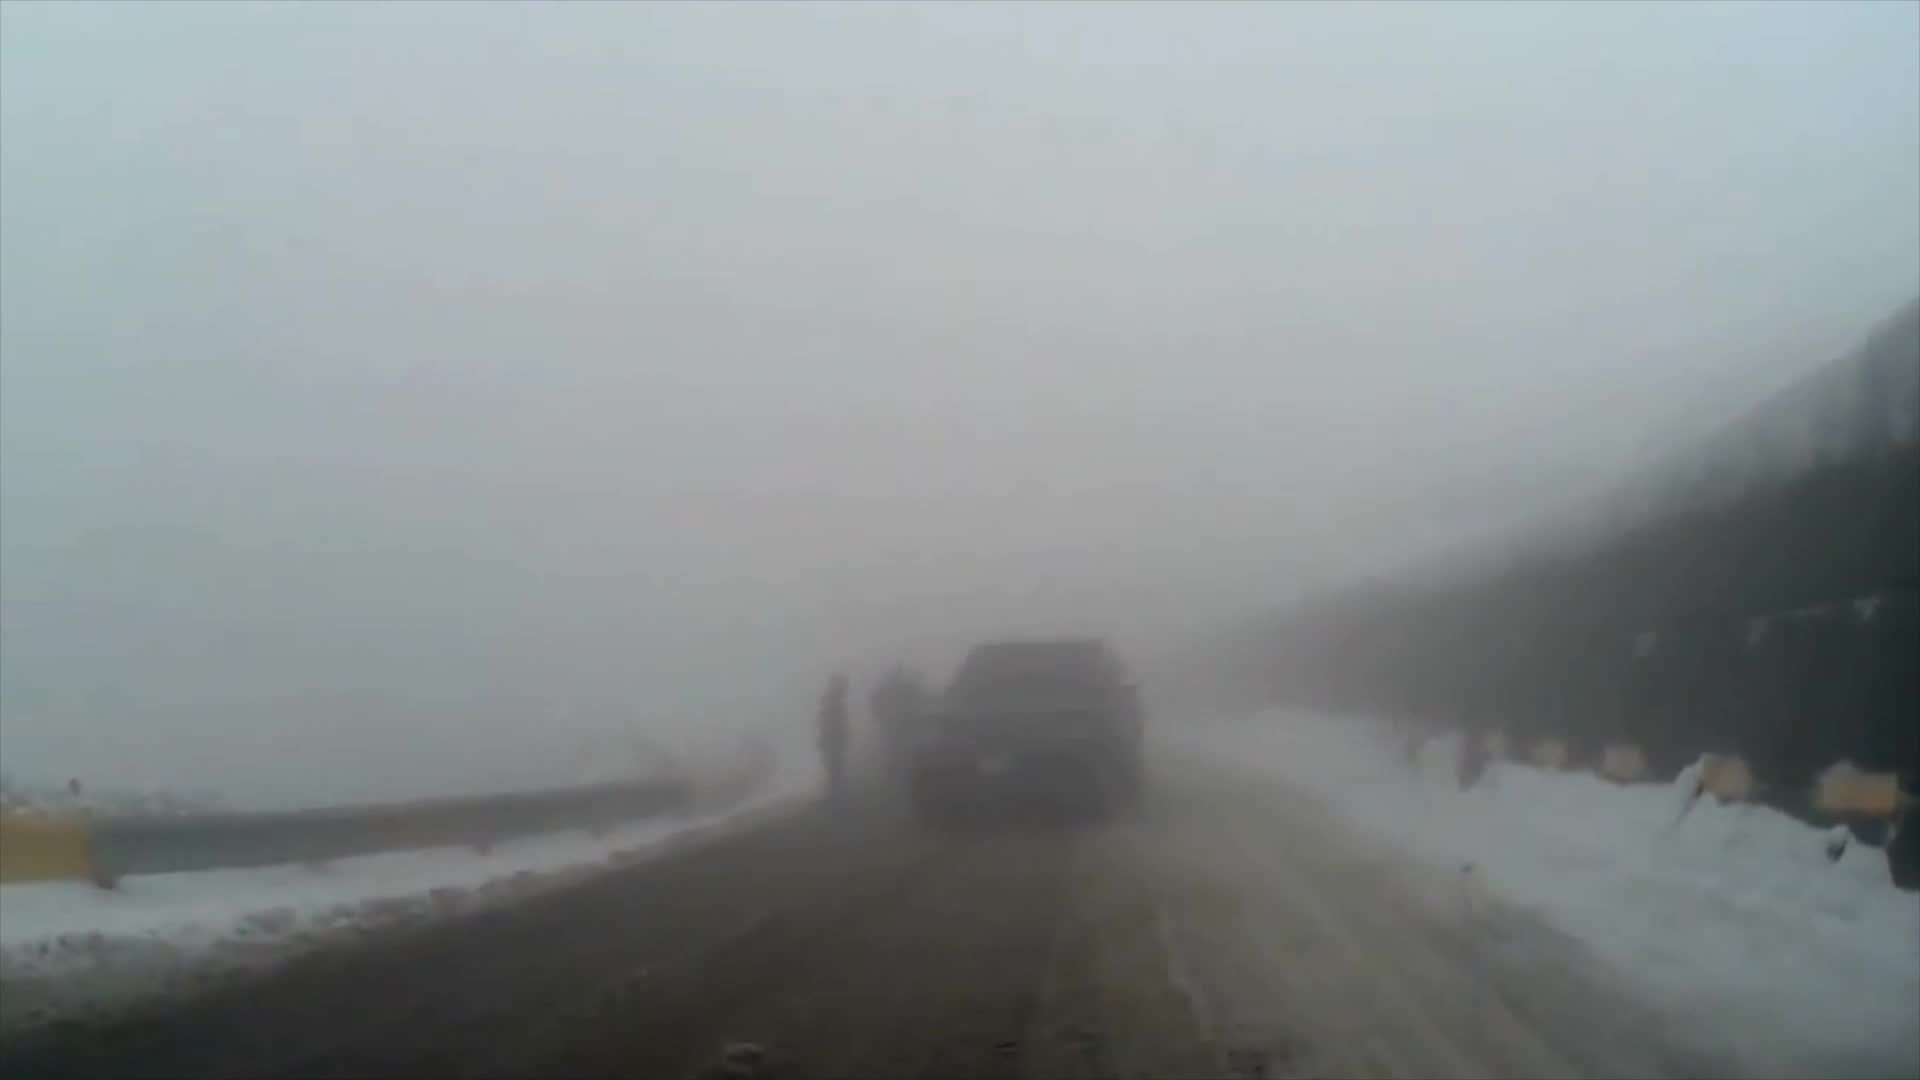pedestrian: (871, 661, 927, 786), (811, 663, 857, 805)
vehicle: (910, 632, 1148, 837)
